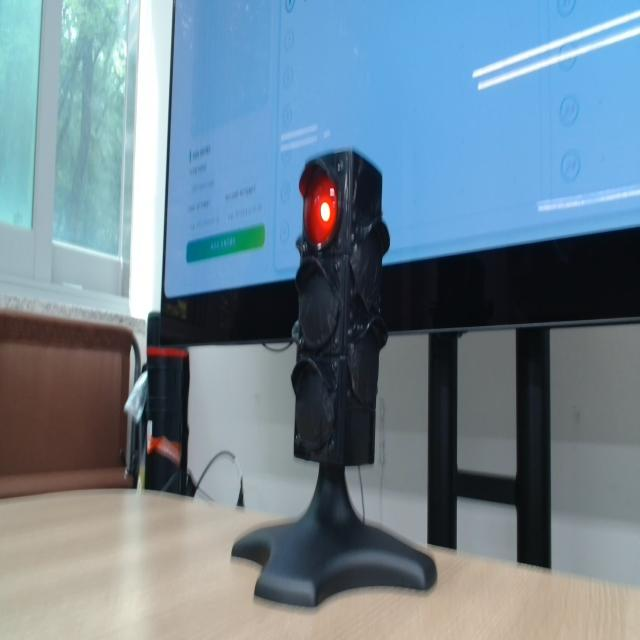red_light: (304, 171, 337, 247)
